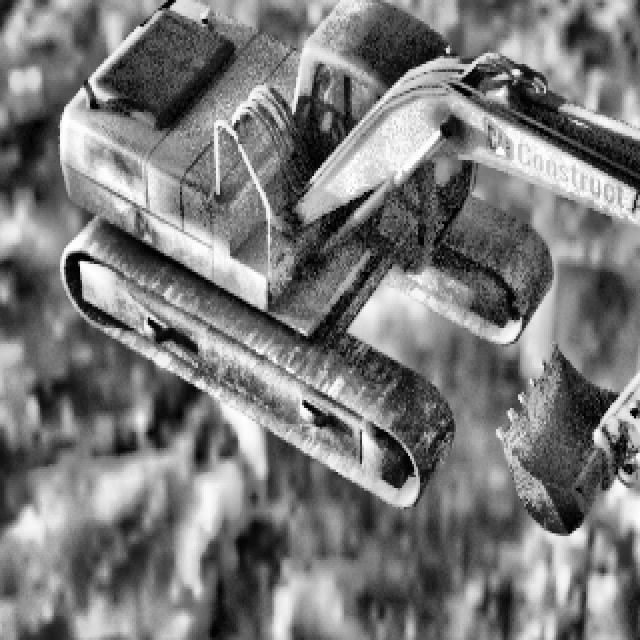excavator: (58, 0, 640, 533)
